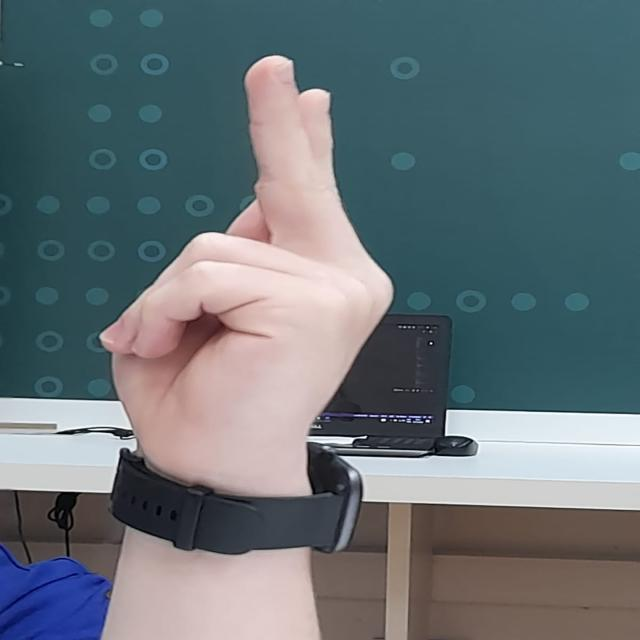K: (77, 52, 427, 454)
